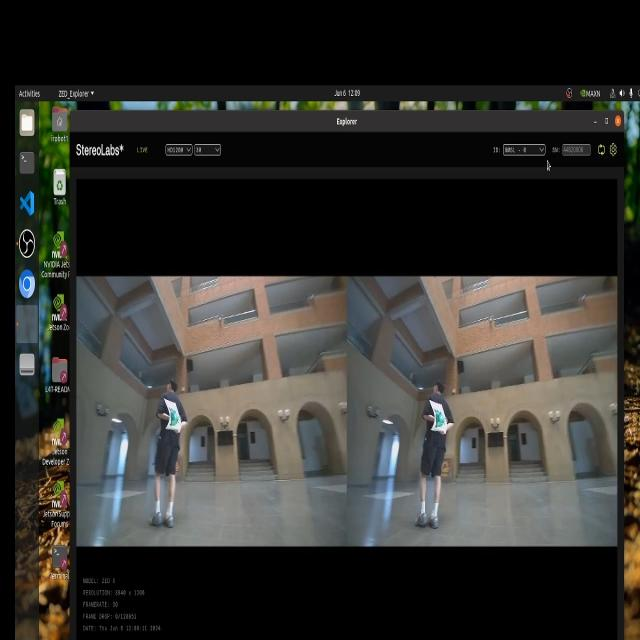green: (431, 402, 452, 440), (166, 402, 177, 432)
